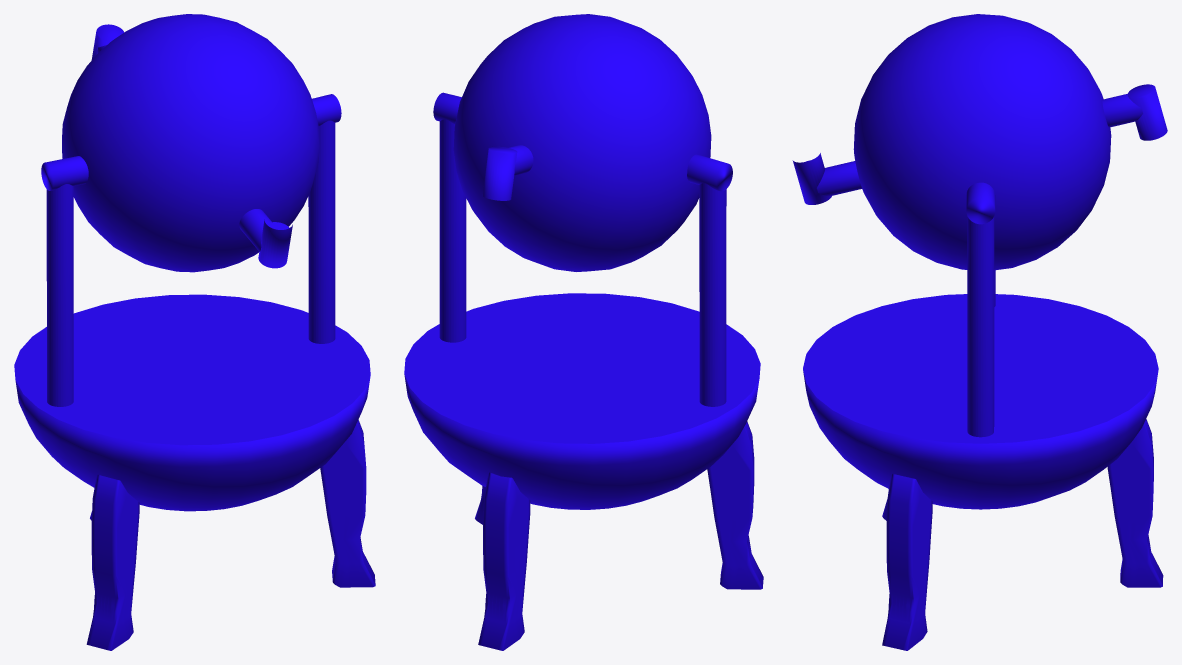
File: aha.glb
3 renders of one model, left to right at view 1: azimuth 30°, elevation 25°; view 2: azimuth 150°, elevation 25°; view 3: azimuth 270°, elevation 25°, orthographic.
Parts seen in each view (by area): view 1: Sphere001, Cylinder004, Cube001, Cylinder002, Cube, Cylinder, Cylinder003, Cylinder001; view 2: Sphere001, Cylinder004, Cube003, Cylinder002, Cube001, Cylinder, Cylinder003, Cylinder001; view 3: Sphere001, Cylinder004, Cube, Cylinder, Cube003, Cylinder001.
Part boxes in pixels (x1,y1,x2,y2): Sphere001: (14, 294, 370, 511); Cylinder004: (62, 14, 319, 272); Cube001: (86, 474, 139, 650); Cylinder002: (46, 184, 73, 406); Cube: (320, 419, 375, 587); Cylinder: (308, 120, 335, 343); Cylinder003: (41, 156, 88, 190); Cylinder001: (312, 94, 341, 125); Sphere001: (404, 293, 760, 509); Cylinder004: (453, 14, 711, 271); Cube003: (478, 472, 530, 650); Cylinder002: (699, 183, 726, 406); Cube001: (707, 421, 763, 589); Cylinder: (439, 119, 466, 342); Cylinder003: (687, 154, 732, 191); Cylinder001: (433, 92, 461, 123); Sphere001: (803, 294, 1158, 509); Cylinder004: (792, 14, 1167, 270); Cube: (882, 473, 932, 650); Cylinder: (967, 216, 994, 437); Cube003: (1107, 419, 1163, 587); Cylinder001: (966, 182, 995, 224).
Bounding box in the file's own units: 2.2 × 3.79 × 2.32.
